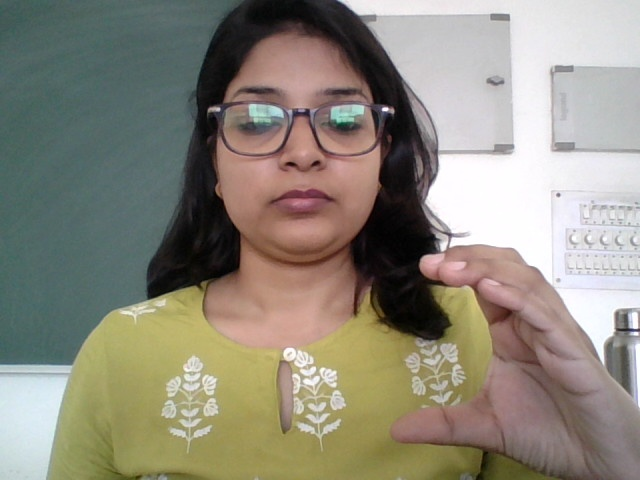C: (387, 245, 621, 467)
